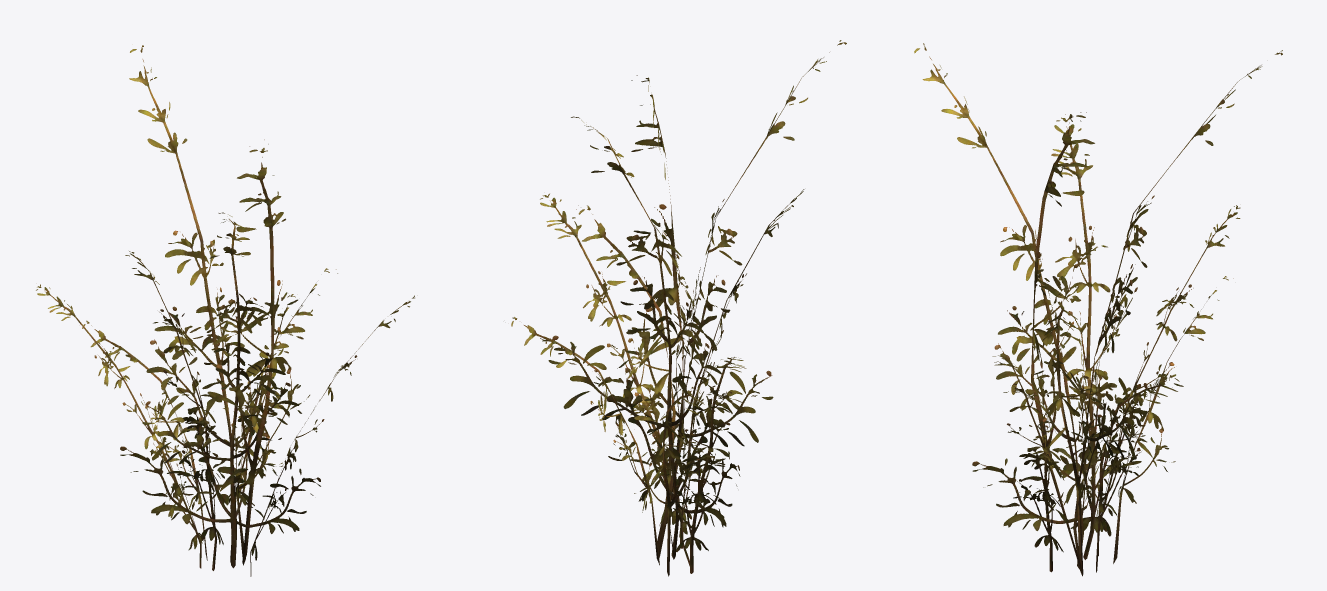
The picture shows the model from 3 angles, left to right: view 1: azimuth 30°, elevation 25°; view 2: azimuth 150°, elevation 25°; view 3: azimuth 270°, elevation 25°; orthographic projection. The views are drawn at different scales.
Visible parts, largest first — view 1: root; view 2: root; view 3: root.
Boxes of the visible parts, x1,y1,x2,y2 form: root: [36, 45, 414, 576]; root: [511, 40, 846, 576]; root: [914, 43, 1282, 576].
Bounding box in the file's own units: 0.8114 × 1.2 × 0.8295.
Materials: 1 (1 with a texture image).
